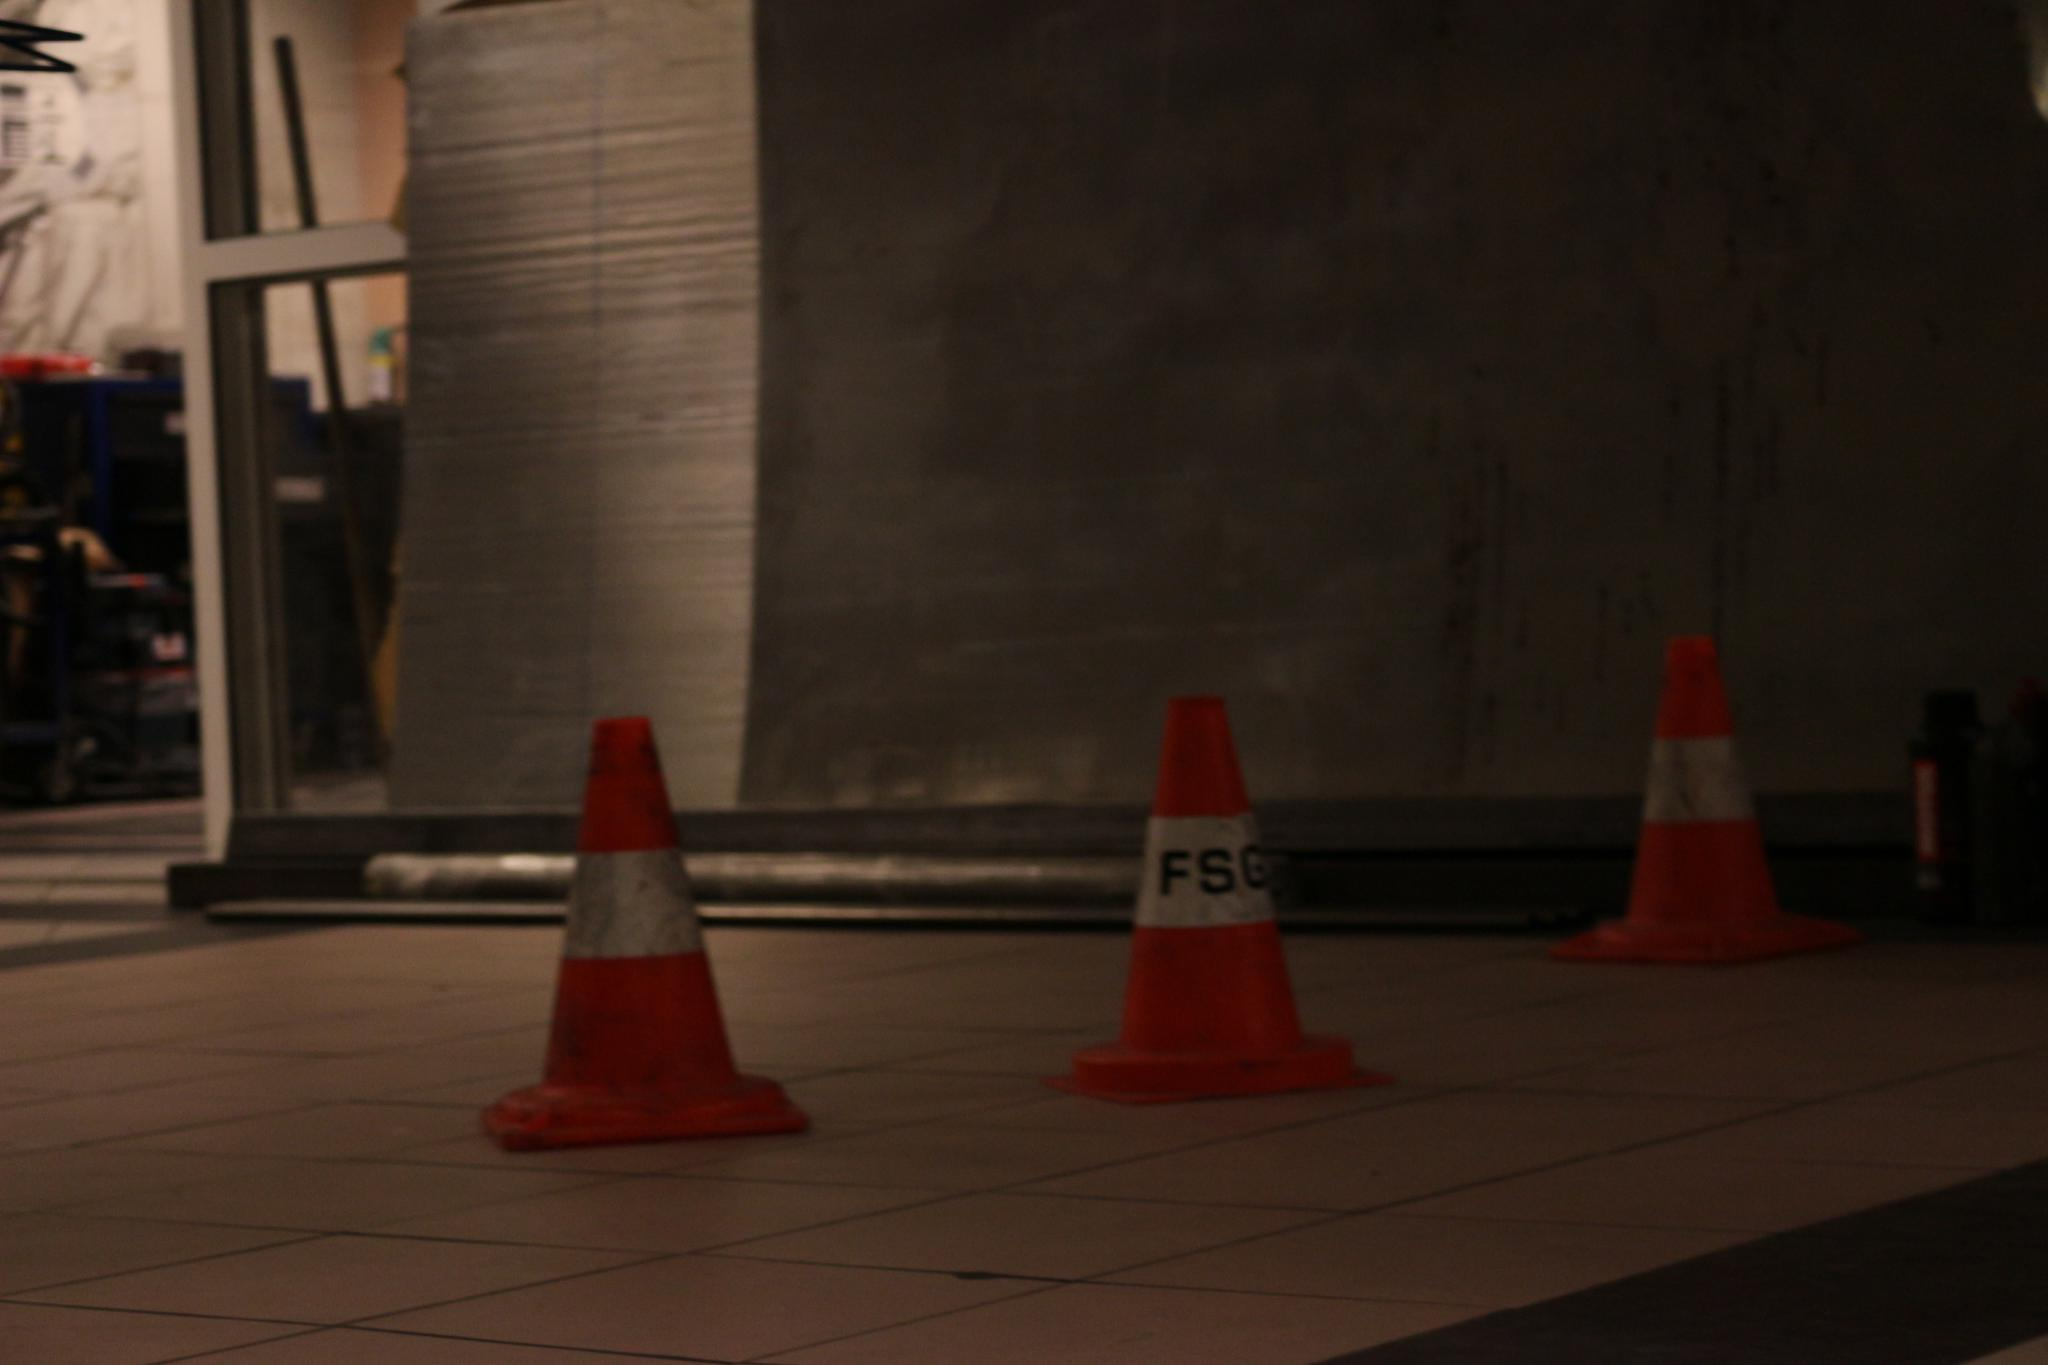Orange_Cone: (477, 705, 819, 1143), (1061, 690, 1370, 1103), (1552, 620, 1855, 972)
